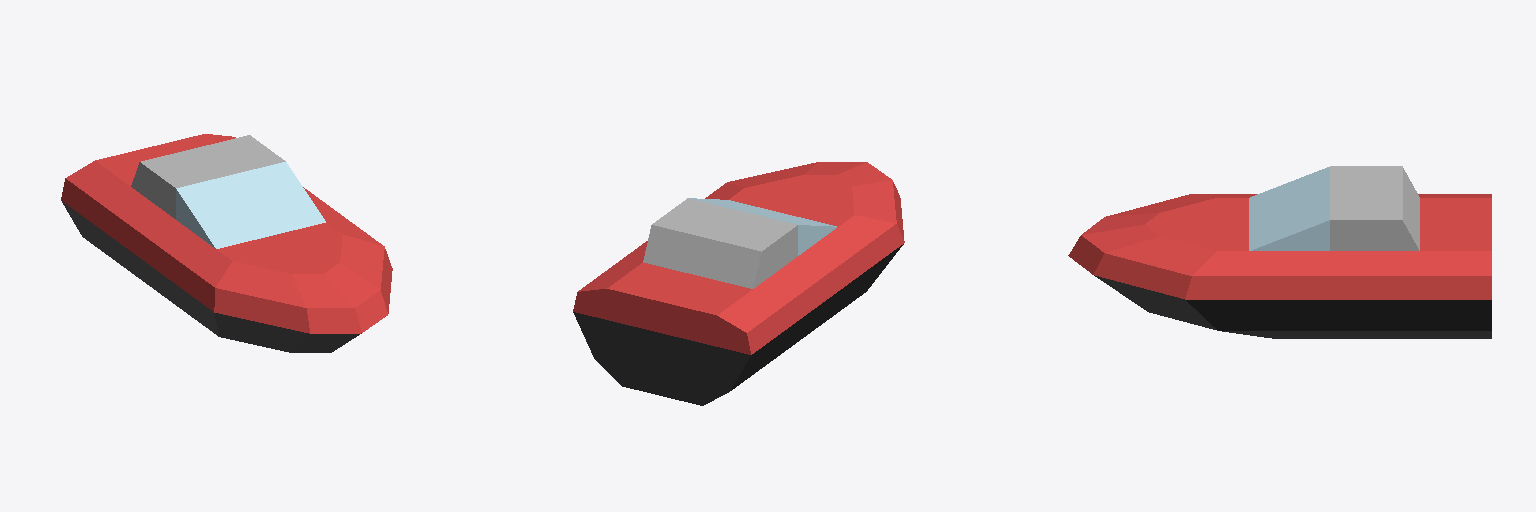
The model's file is watercraftPack_019.obj.
3 views of the same model, side by side, from view 1: azimuth 30°, elevation 25°; view 2: azimuth 150°, elevation 25°; view 3: azimuth 270°, elevation 25° (orthographic).
Parts seen in each view (by area): view 1: Mesh1 Group1 Model; view 2: Mesh1 Group1 Model; view 3: Mesh1 Group1 Model.
Boxes of the visible parts, box(x1,y1,x2,y2) form: Mesh1 Group1 Model: box(61, 134, 392, 352); Mesh1 Group1 Model: box(573, 162, 904, 405); Mesh1 Group1 Model: box(1068, 166, 1491, 338).
Bounding box in the file's own units: 1.78 × 1.2 × 3.67.